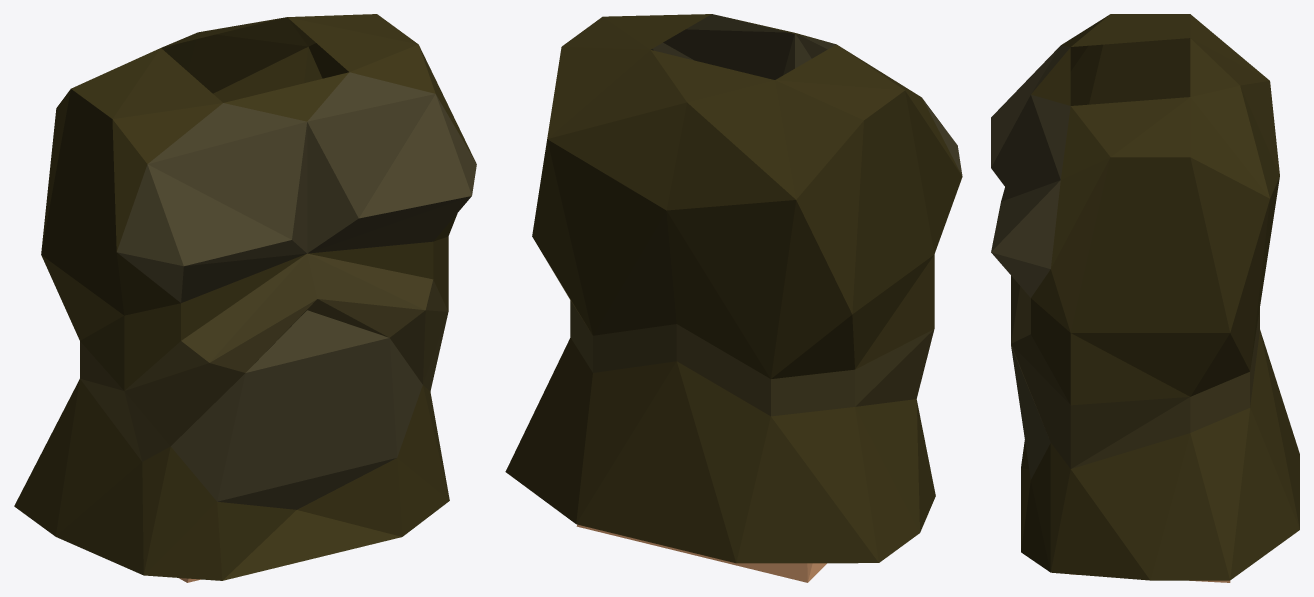
The model's file is model_296_obj_wear.obj.
3 renders of one model, left to right at view 1: azimuth 30°, elevation 25°; view 2: azimuth 150°, elevation 25°; view 3: azimuth 270°, elevation 25°, orthographic. The views are drawn at different scales.
Parts seen in each view (by area): view 1: 296; view 2: 296; view 3: 296.
Boxes of the visible parts, x1,y1,x2,y2 form: 296: (14,14,476,582); 296: (505,14,962,582); 296: (991,14,1299,582).
Size of the model in its own units: 42 by 51 by 31.
